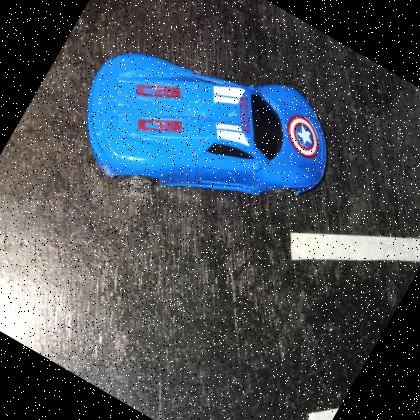Car: (85, 53, 327, 196)
